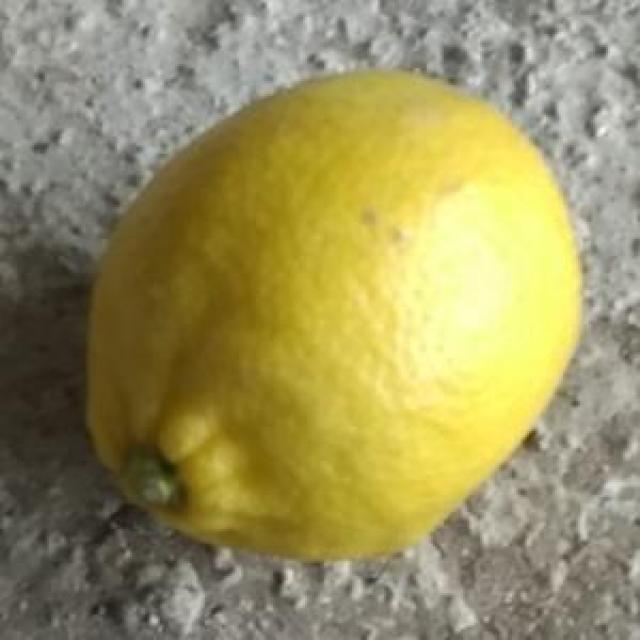lemon: (88, 63, 586, 568)
